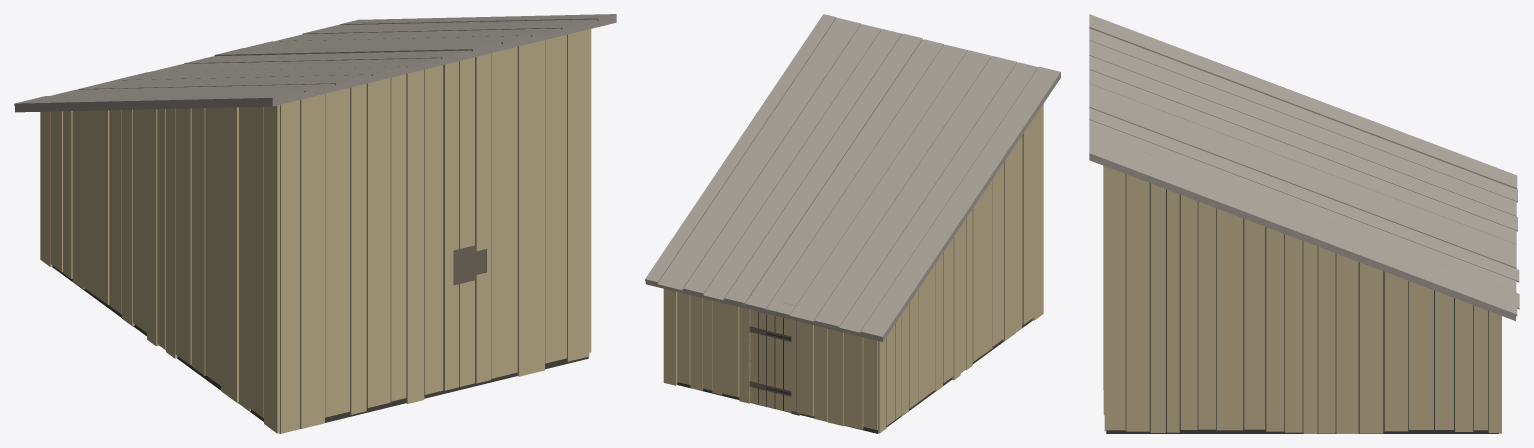
File: recon_1835_blk_school_section_tier_118_d2_01__inferred_1835.glb
3 renders of one model, left to right at view 1: azimuth 30°, elevation 25°; view 2: azimuth 150°, elevation 25°; view 3: azimuth 270°, elevation 25°, orthographic. The views are drawn at different scales.
Parts seen in each view (by area): view 1: recon_1835_blk_school_section_tier_118_d2_01__inferred_1835; view 2: recon_1835_blk_school_section_tier_118_d2_01__inferred_1835; view 3: recon_1835_blk_school_section_tier_118_d2_01__inferred_1835.
Part boxes in pixels (x1=…): recon_1835_blk_school_section_tier_118_d2_01__inferred_1835: x1=14, y1=14, x2=616, y2=433; recon_1835_blk_school_section_tier_118_d2_01__inferred_1835: x1=645, y1=14, x2=1060, y2=433; recon_1835_blk_school_section_tier_118_d2_01__inferred_1835: x1=1089, y1=14, x2=1519, y2=433.
Bounding box in the file's own units: 4.85 × 4.69 × 6.35.
